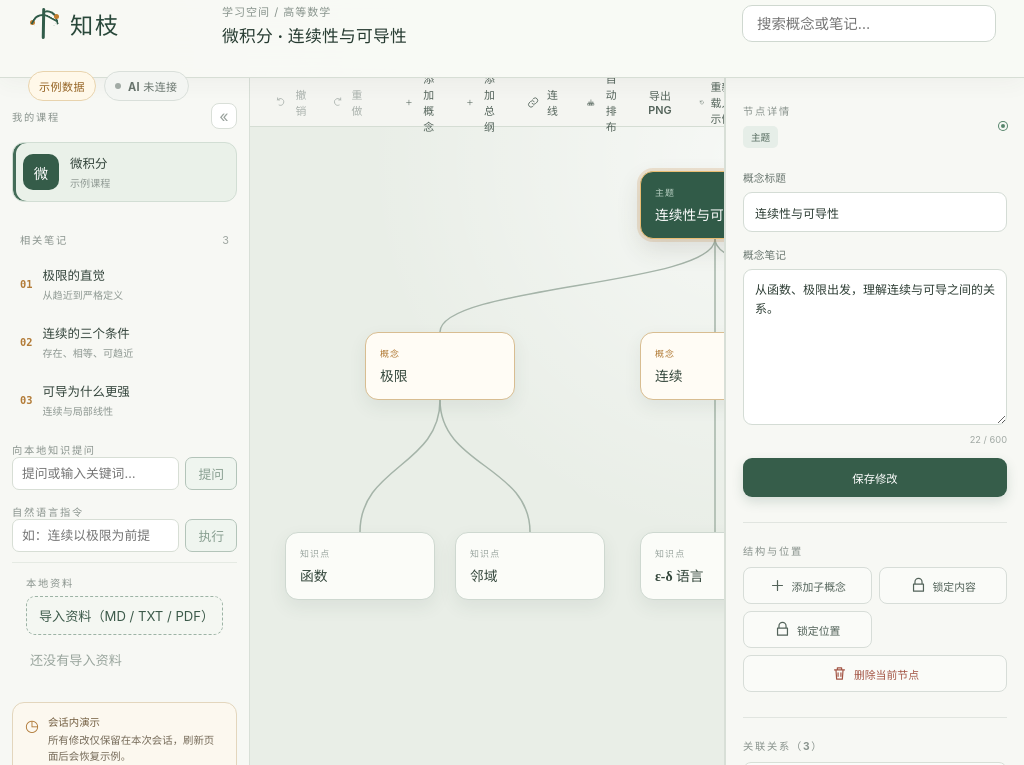
Scenario: editing toolbox (WORK-2026-047) › adds a free concept block without a parent edge
Step 1. Click the button "添加概念" → (422, 102), box 395,69 -> 449,135
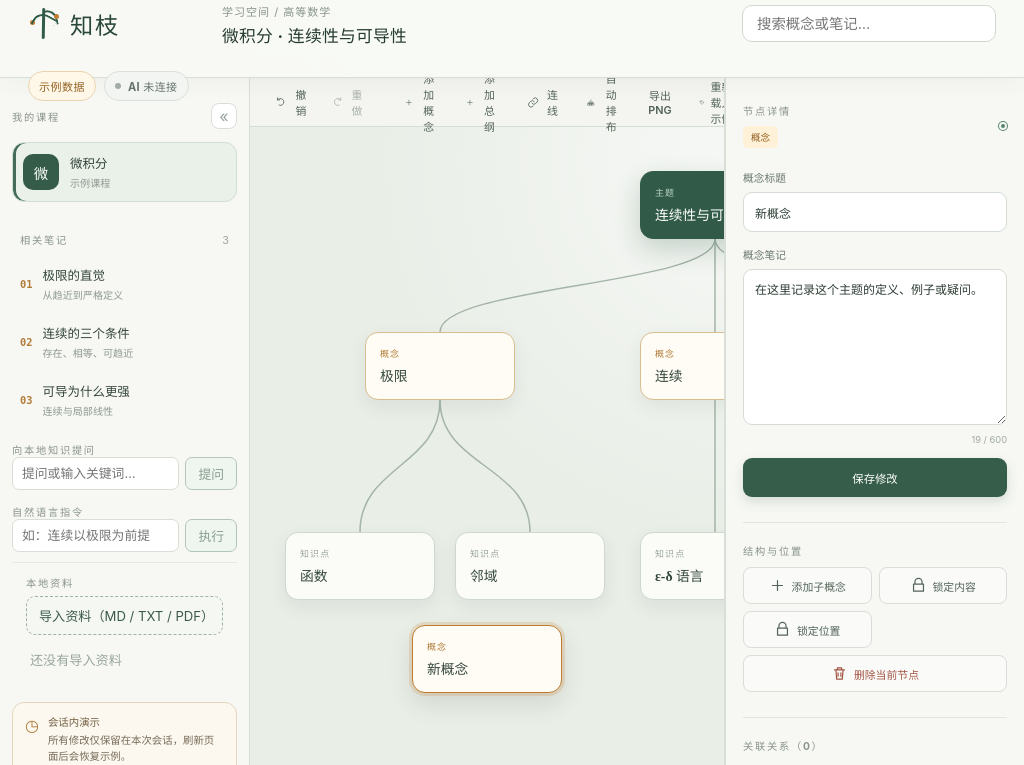
expect the 4th text with class "node-type" reads "概念": met, box 427,640 -> 447,652
